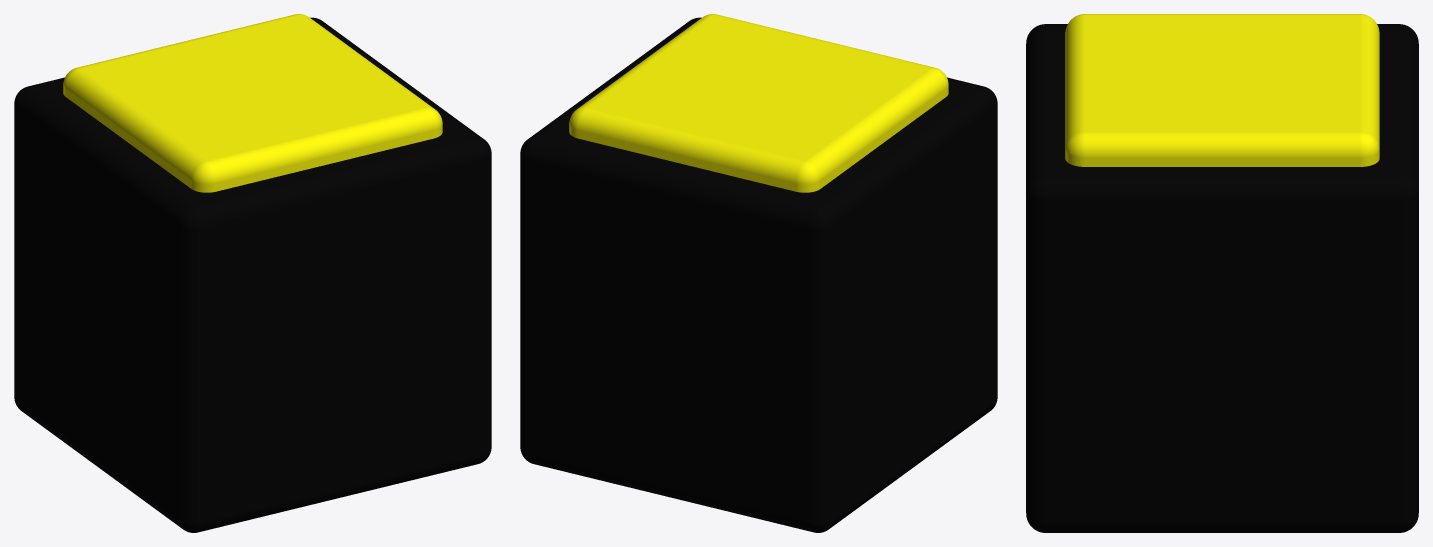
The model's file is cubinho(0, 1, 0).obj.
3 views of the same model, side by side, from view 1: azimuth 30°, elevation 25°; view 2: azimuth 150°, elevation 25°; view 3: azimuth 270°, elevation 25° (orthographic). The views are drawn at different scales.
Visible parts, largest first — view 1: (0,_1,_0); view 2: (0,_1,_0); view 3: (0,_1,_0).
Boxes of the visible parts, x1=… form: (0,_1,_0): x1=14, y1=14, x2=491, y2=532; (0,_1,_0): x1=520, y1=14, x2=997, y2=532; (0,_1,_0): x1=1026, y1=14, x2=1418, y2=532.
Size of the model in its own units: 2 by 2.15 by 2.
